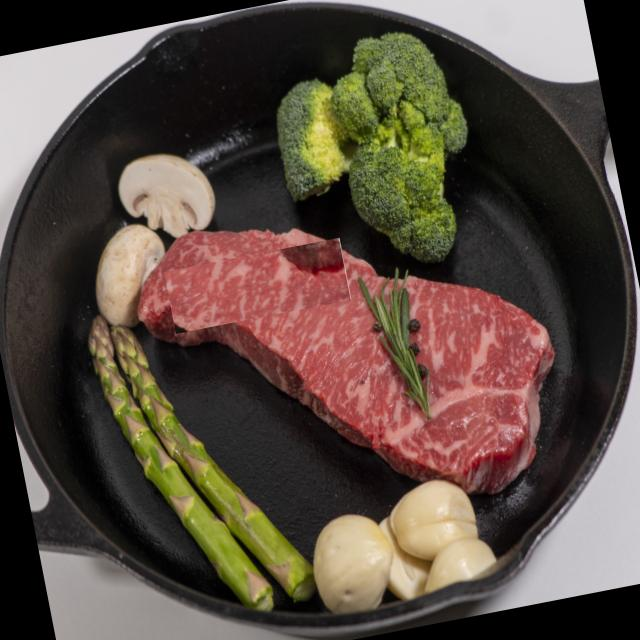beef: (164, 237, 352, 334)
